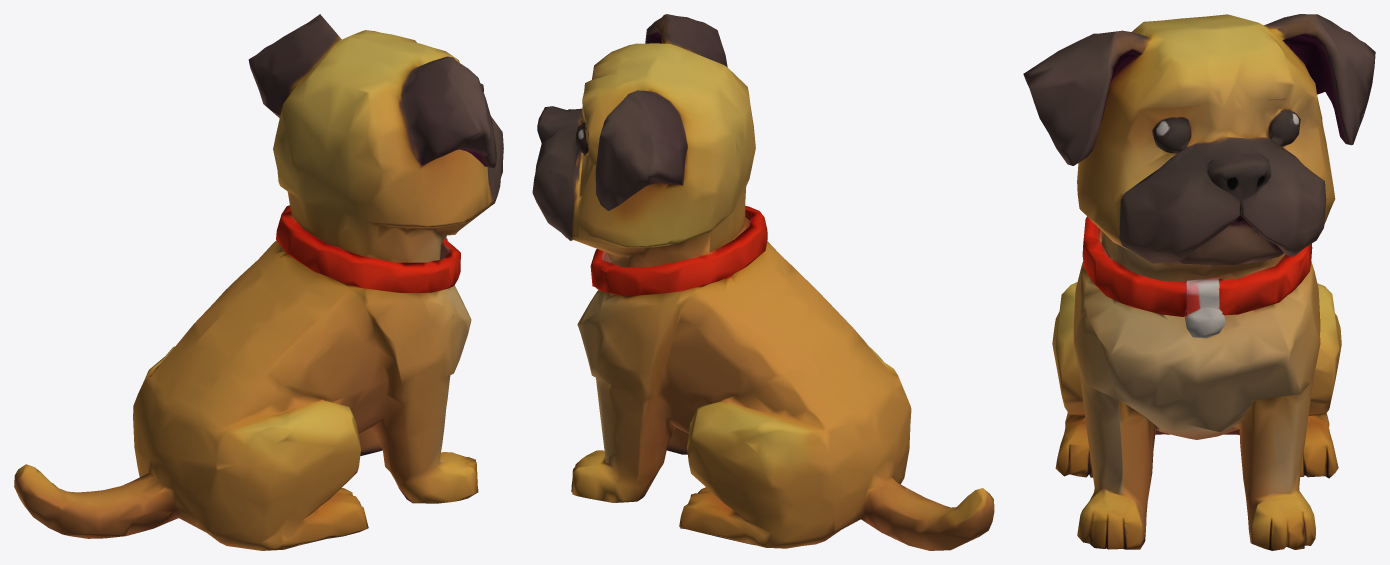
Rendered from pub_dog.glb.
3 renders of one model, left to right at view 1: azimuth 30°, elevation 25°; view 2: azimuth 150°, elevation 25°; view 3: azimuth 270°, elevation 25°, orthographic. The views are drawn at different scales.
Visible parts, largest first — view 1: tripo_node_993a06cd-6cb5-4411-81e3-24eb5b743e9b; view 2: tripo_node_993a06cd-6cb5-4411-81e3-24eb5b743e9b; view 3: tripo_node_993a06cd-6cb5-4411-81e3-24eb5b743e9b.
Boxes of the visible parts, box(x1,y1,x2,y2) form: tripo_node_993a06cd-6cb5-4411-81e3-24eb5b743e9b: box(14, 14, 503, 550); tripo_node_993a06cd-6cb5-4411-81e3-24eb5b743e9b: box(532, 14, 994, 550); tripo_node_993a06cd-6cb5-4411-81e3-24eb5b743e9b: box(1023, 14, 1375, 550).
Size of the model in its own units: 1 by 0.8995 by 0.5624.
Materials: 1 (1 with a texture image).
